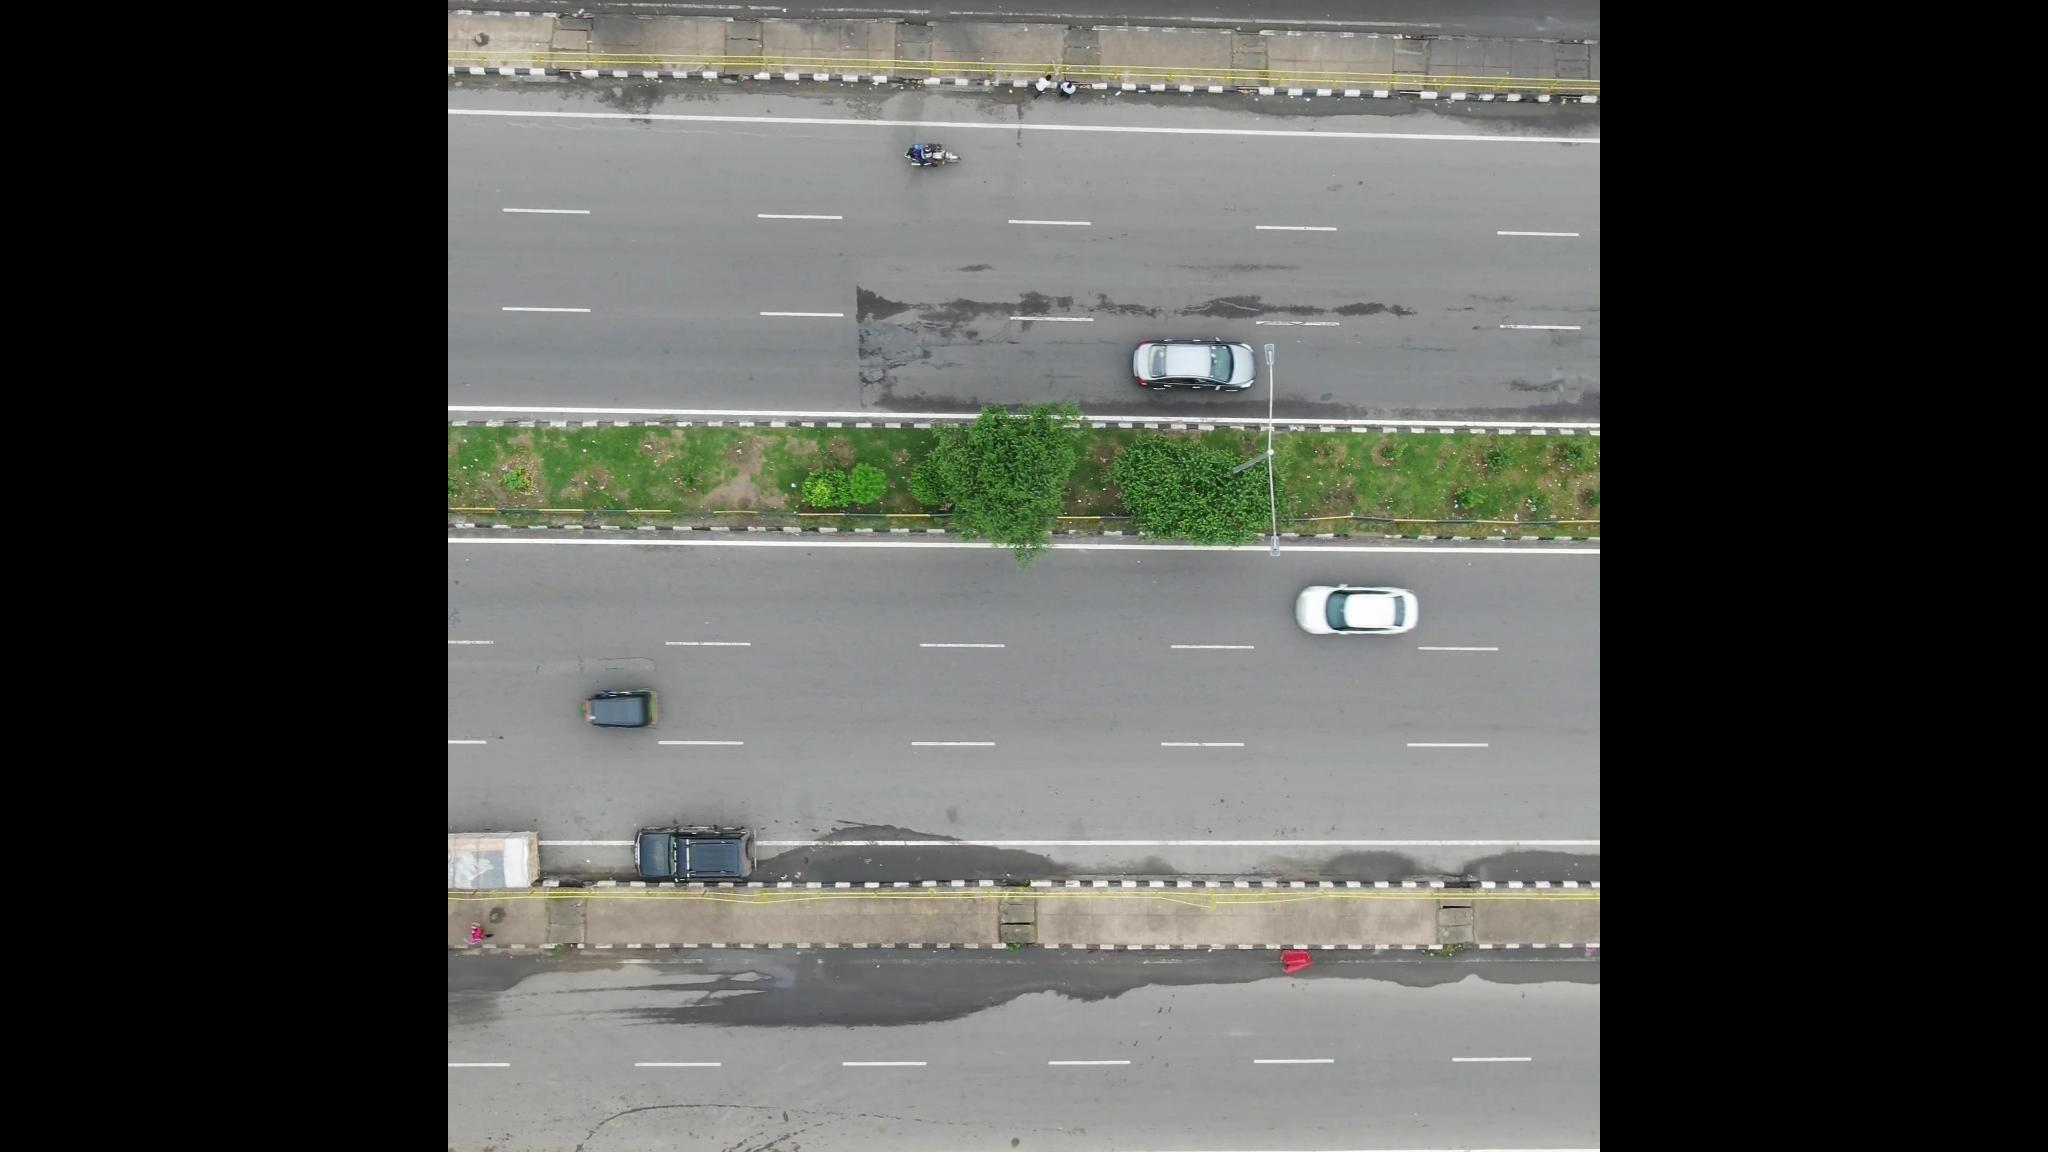Cracks: (844, 257, 1166, 425)
Ravelling: (1189, 281, 1414, 325)
